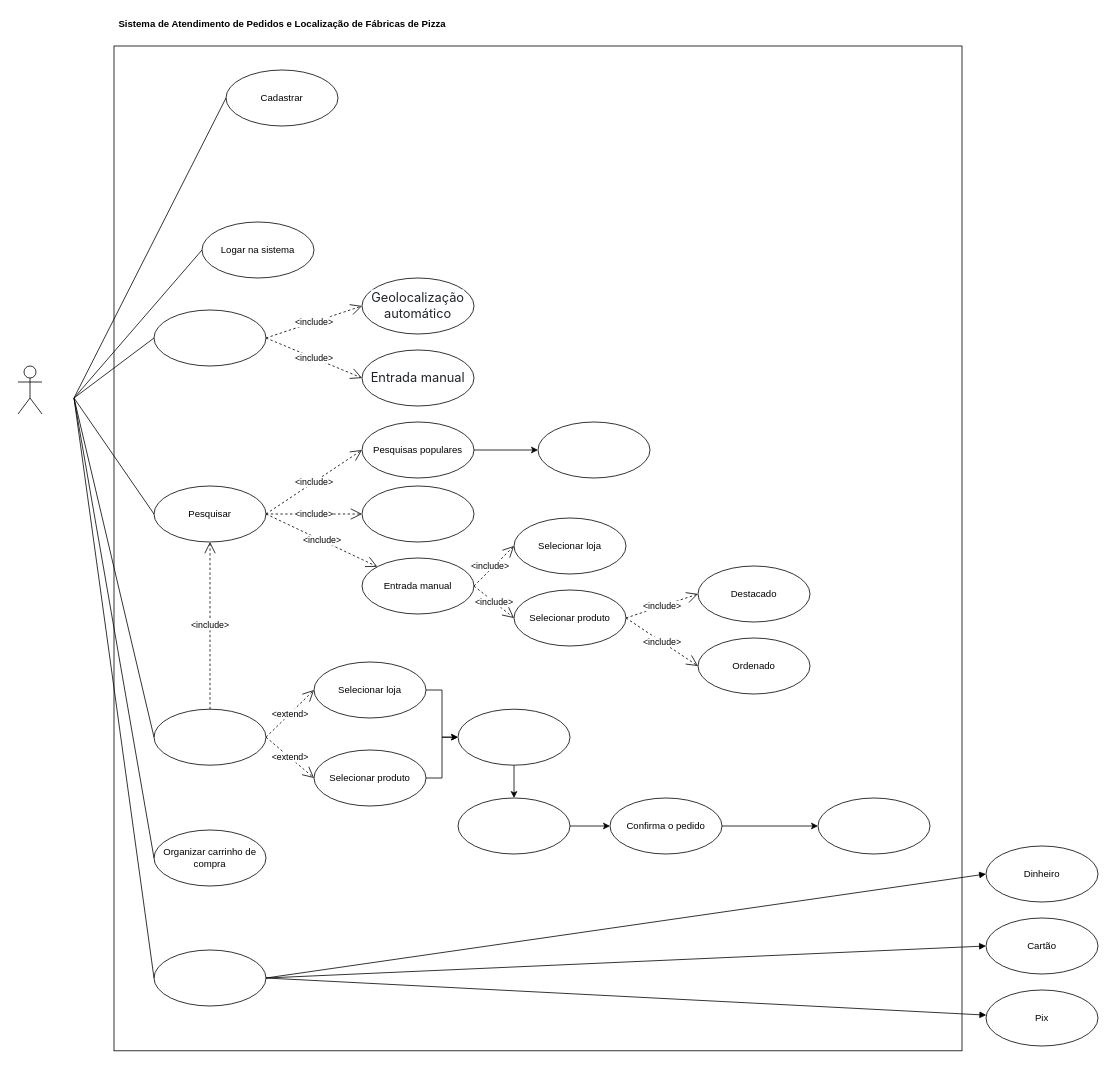
This 1112x1065 diagram has some shape labels left out. The box of each missing label's shape, as (x1, y1, x2, y2) in pixels:
Confirmar o endereço: (153, 309, 266, 366)
Efetuar pagamento: (817, 797, 930, 854)
Mostra lojas de pizza próximo ao redor do endereço: (537, 421, 650, 478)
Opçaõ de entrega ou retirada: (457, 708, 570, 765)
Pagamento: (153, 949, 266, 1006)
Pedir pizza: (153, 708, 266, 765)
Registro histórico: (361, 485, 474, 542)
Selecionar endereço: (457, 797, 570, 854)
Usuário: (17, 365, 42, 414)
